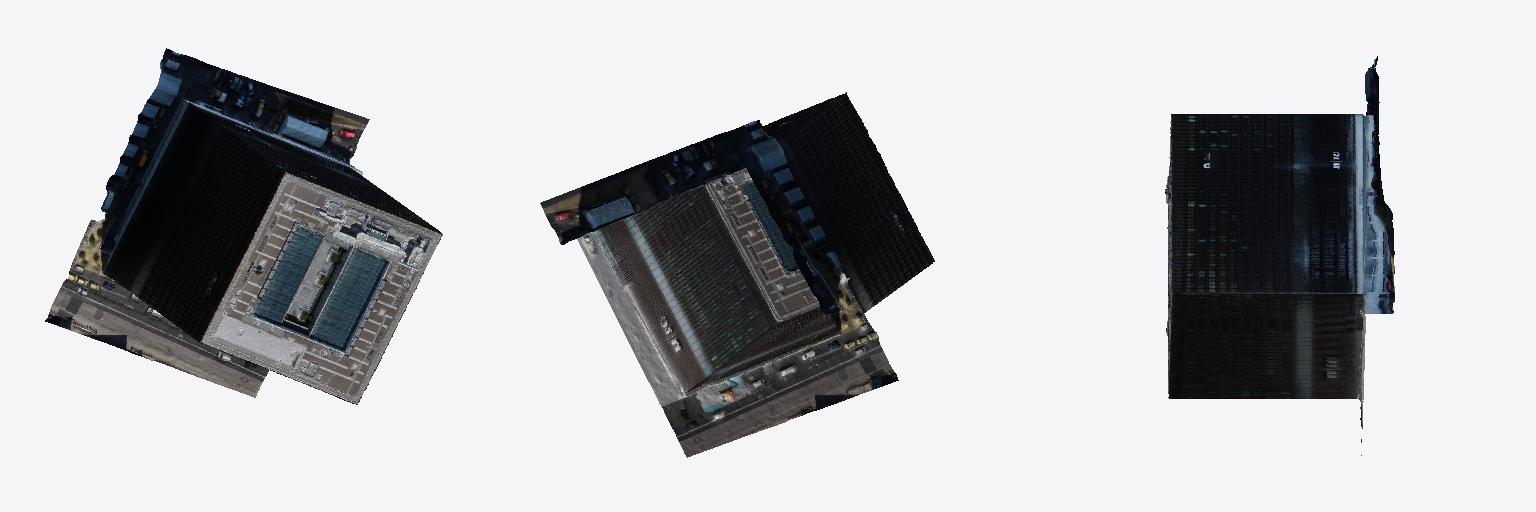
The picture shows the model from 3 angles: view 1: azimuth 30°, elevation 25°; view 2: azimuth 150°, elevation 25°; view 3: azimuth 270°, elevation 25°; orthographic projection.
Size of the model in its own units: 131 by 134 by 76.65.
1 materials, 1 textured.